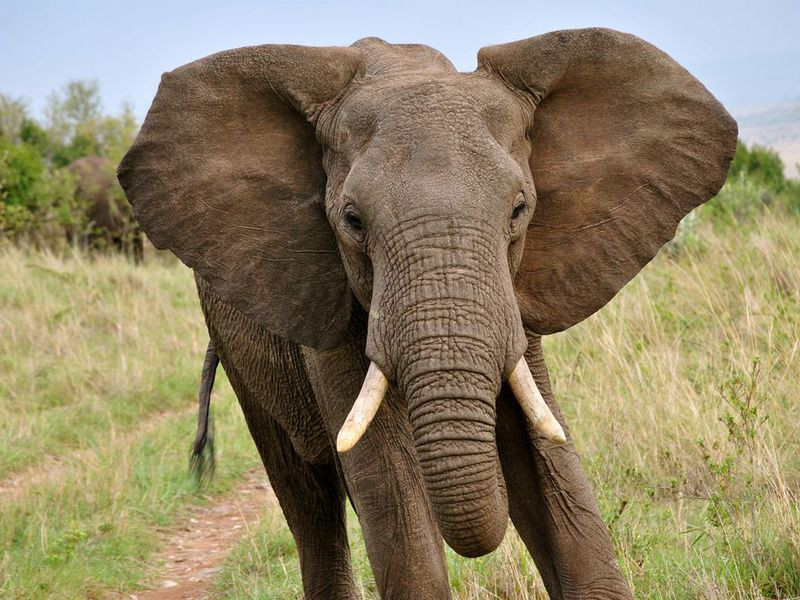elephant: (105, 19, 745, 600)
